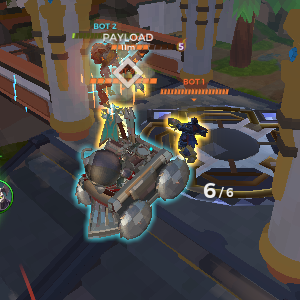model: (96, 97, 132, 153), (171, 110, 206, 166), (131, 59, 149, 98)
